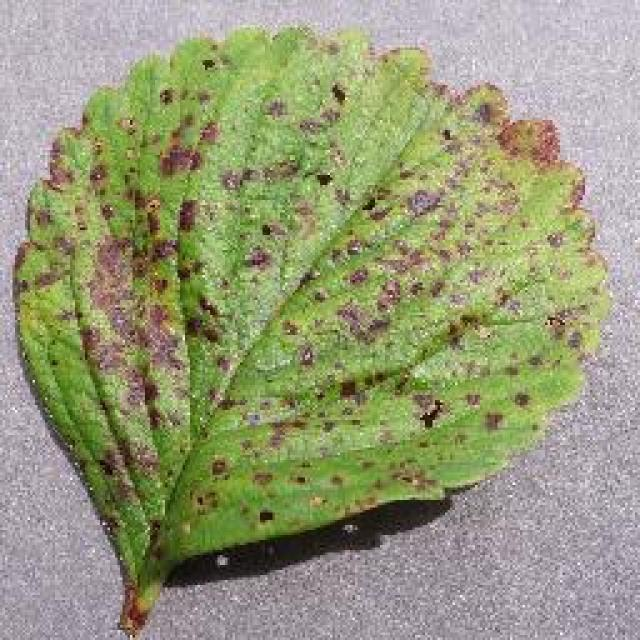Strawberry___Leaf_scorch: (51, 42, 580, 541)
